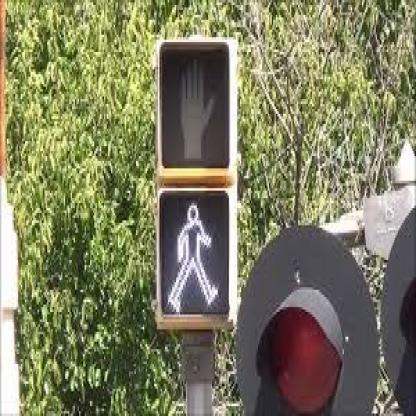Walk: (158, 184, 239, 332)
